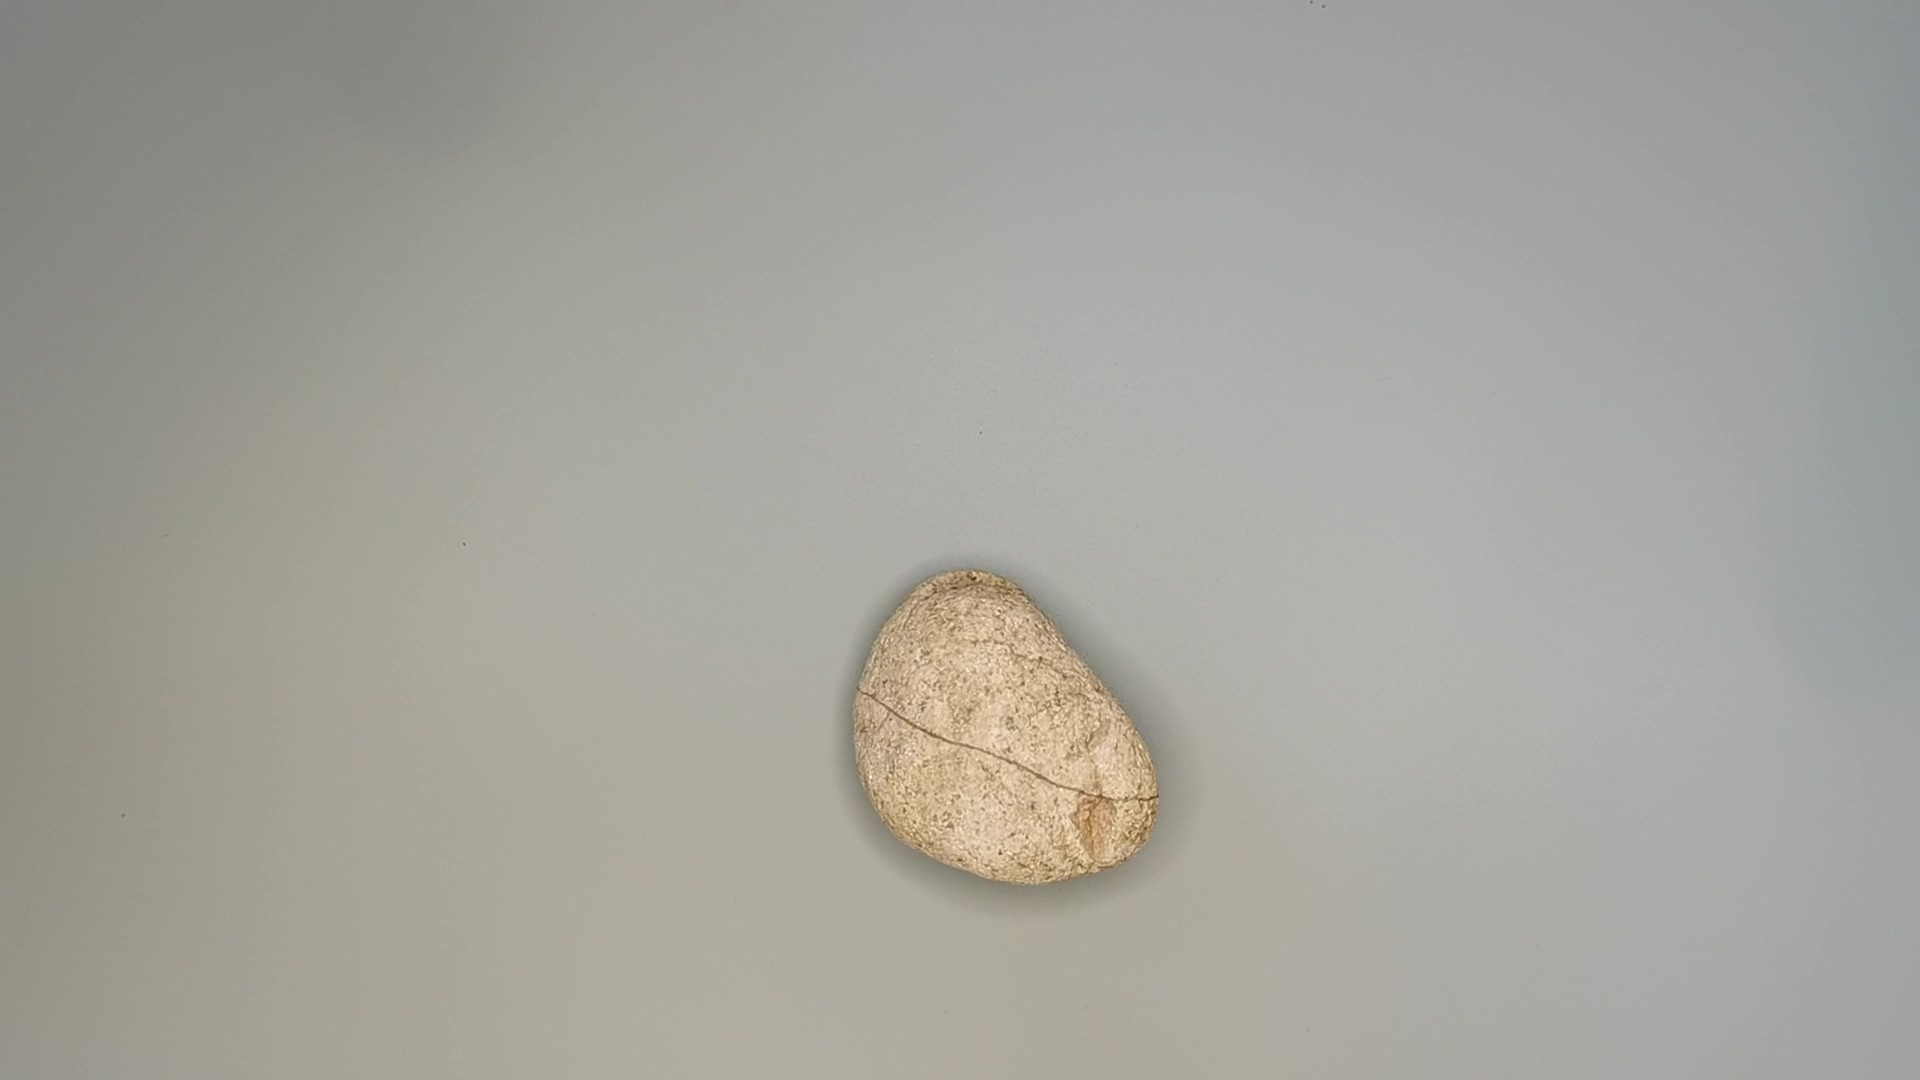ceramic: (841, 560, 1168, 884)
